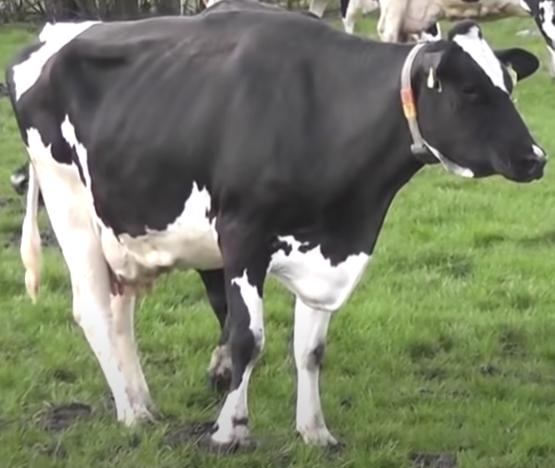cow: (5, 11, 547, 445)
